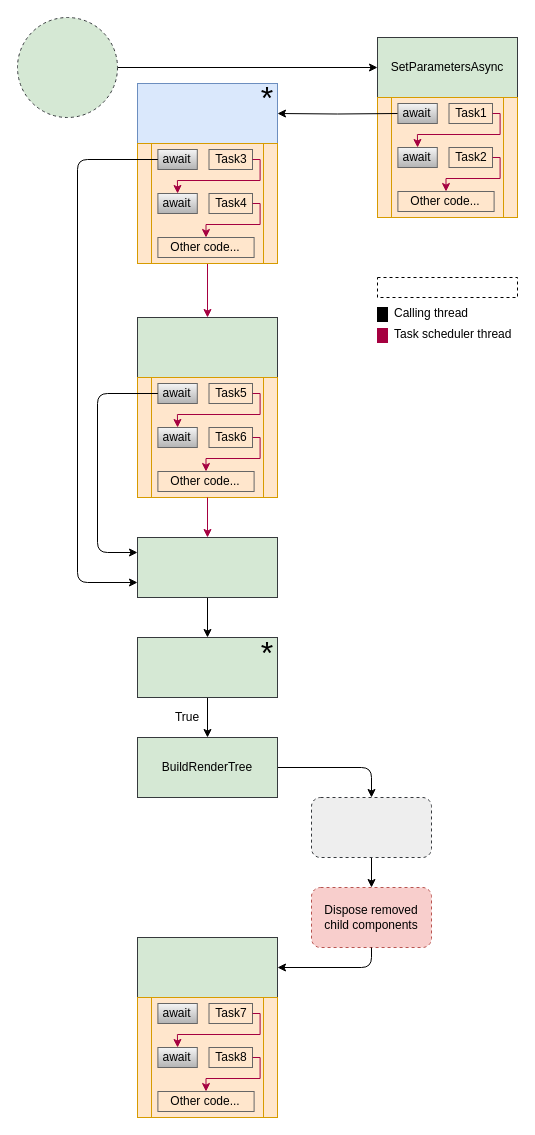
The diagram is 535 pixels wide and 1135 high, and some of its shapes have lost their labels. The shapes that lost their labels are listed below. From the top down, each one's box as (x1, y1, x2, y2) in pixels, then its label:
(16, 16, 118, 118): Parent renders
(136, 82, 278, 144): OnInitializedAsync
(376, 276, 518, 298): Key
(136, 316, 278, 378): OnSetParametersAsync
(136, 536, 278, 598): StateHasChanged
(136, 636, 278, 698): ShouldRender
(310, 796, 432, 858): Create added child components
(136, 936, 278, 998): OnAfterRenderAsync
